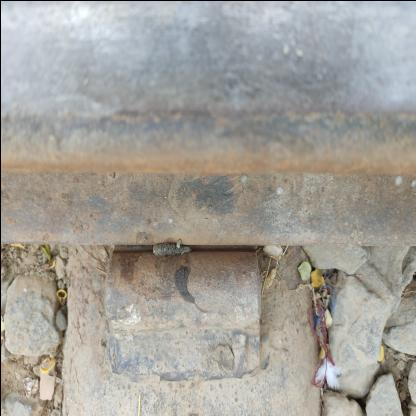Defective 1: (67, 196, 292, 415)
